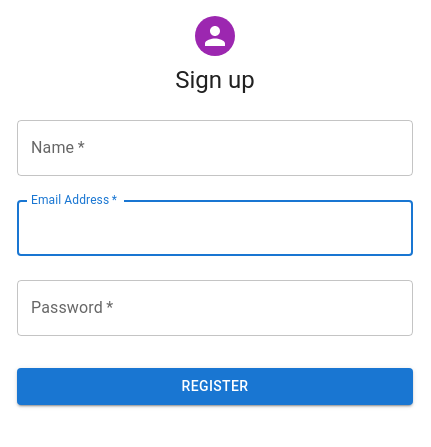
Scenario: renders the error message for name if no name given
Focus the field named "name": {"x": 215, "y": 148} x1=17 y1=120 x2=413 y2=176
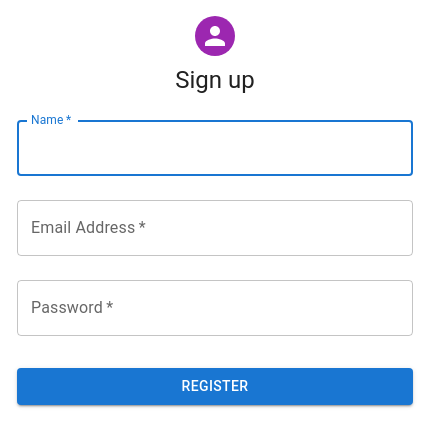
Leave the field named "name", box x1=17 y1=120 x2=413 y2=176
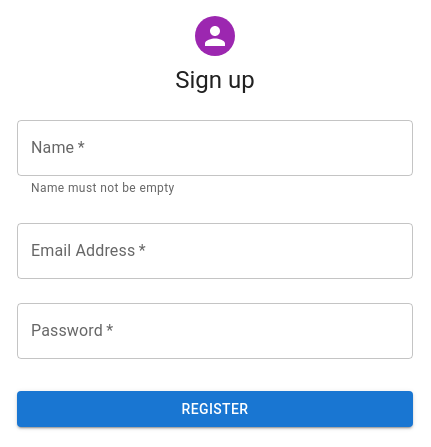
Expected: the text with id "name-helper-text" reads "Name must not be empty", x1=31 y1=181 x2=175 y2=195
